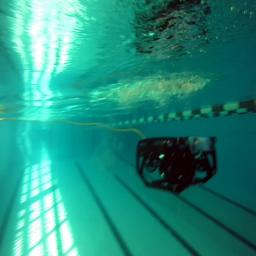Side: (135, 135, 219, 196)
